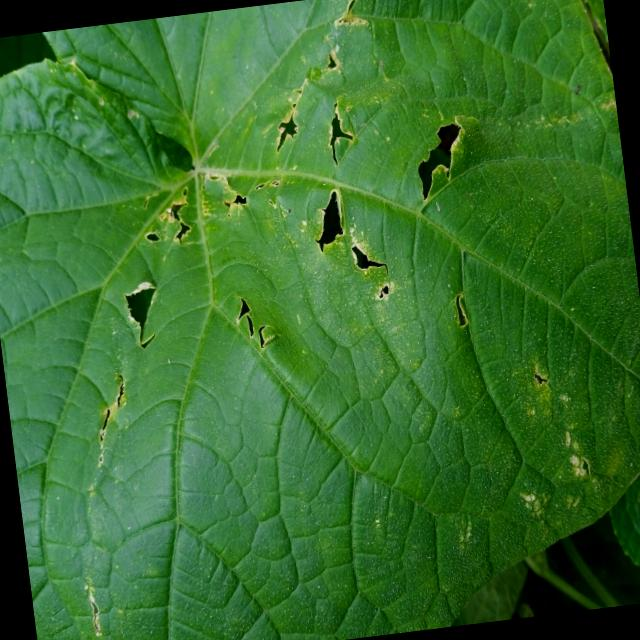cucumber_anthracnose: (0, 0, 590, 618)
